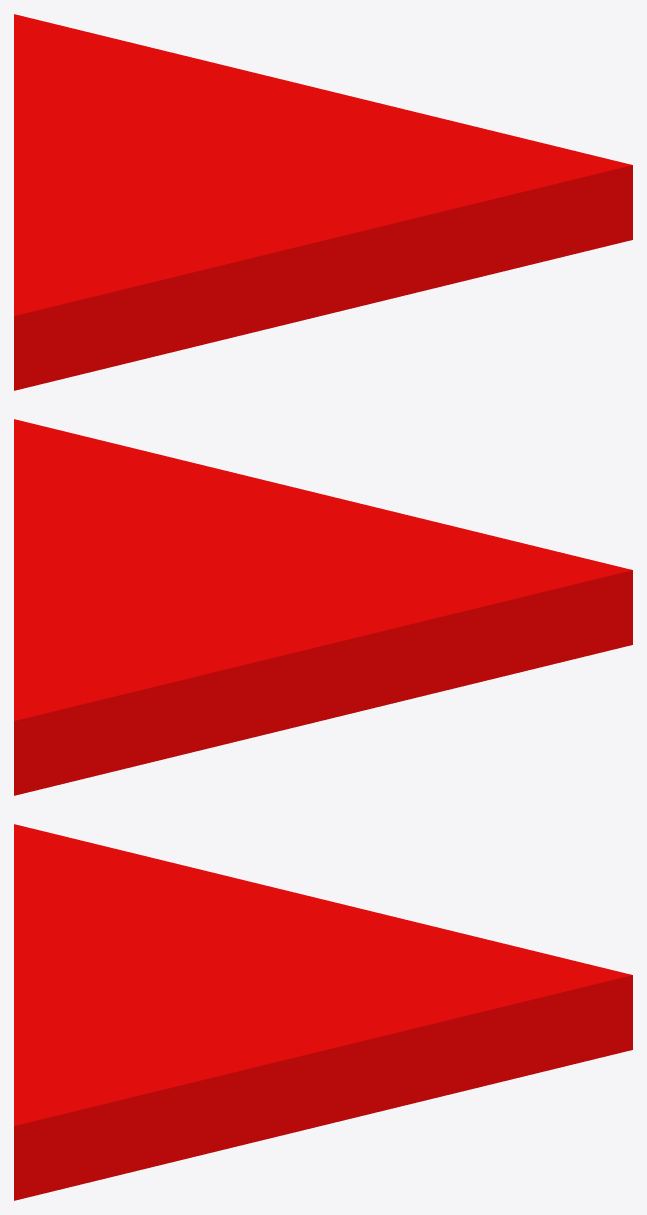
File: ConveyorArrow.fbx
3 renders of one model, top to bottom at view 1: azimuth 30°, elevation 25°; view 2: azimuth 150°, elevation 25°; view 3: azimuth 270°, elevation 25°, orthographic.
Visible parts, largest first — view 1: 円柱; view 2: 円柱; view 3: 円柱.
Part boxes in pixels (left/top/right/bottom): 円柱: left=14, top=14, right=632, bottom=390; 円柱: left=14, top=419, right=632, bottom=795; 円柱: left=14, top=824, right=632, bottom=1200.
Size of the model in its own units: 8.66 by 1 by 7.5.
